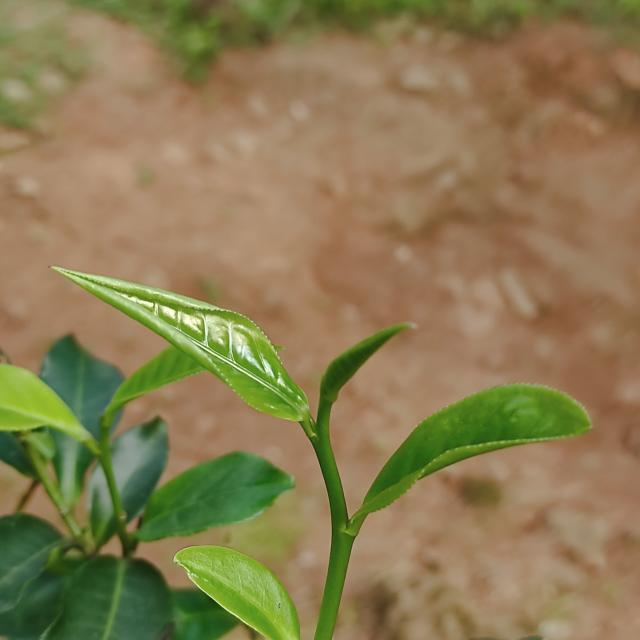unopened_leaf: (312, 311, 427, 438)
